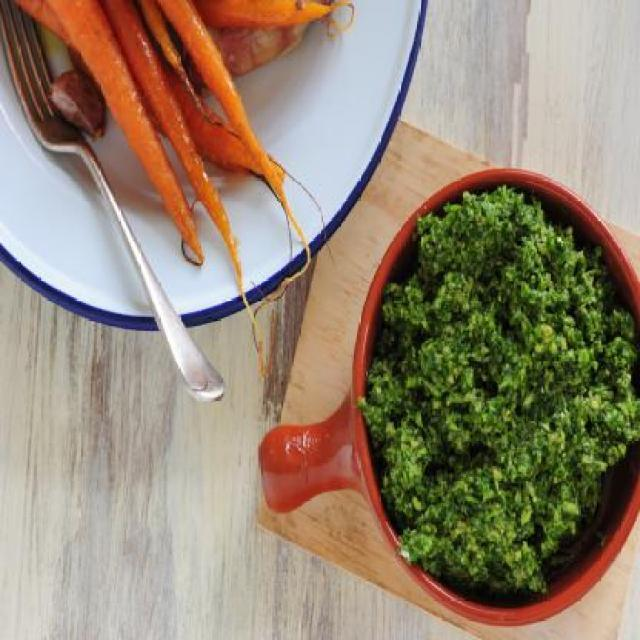Carrot: (66, 7, 284, 275)
